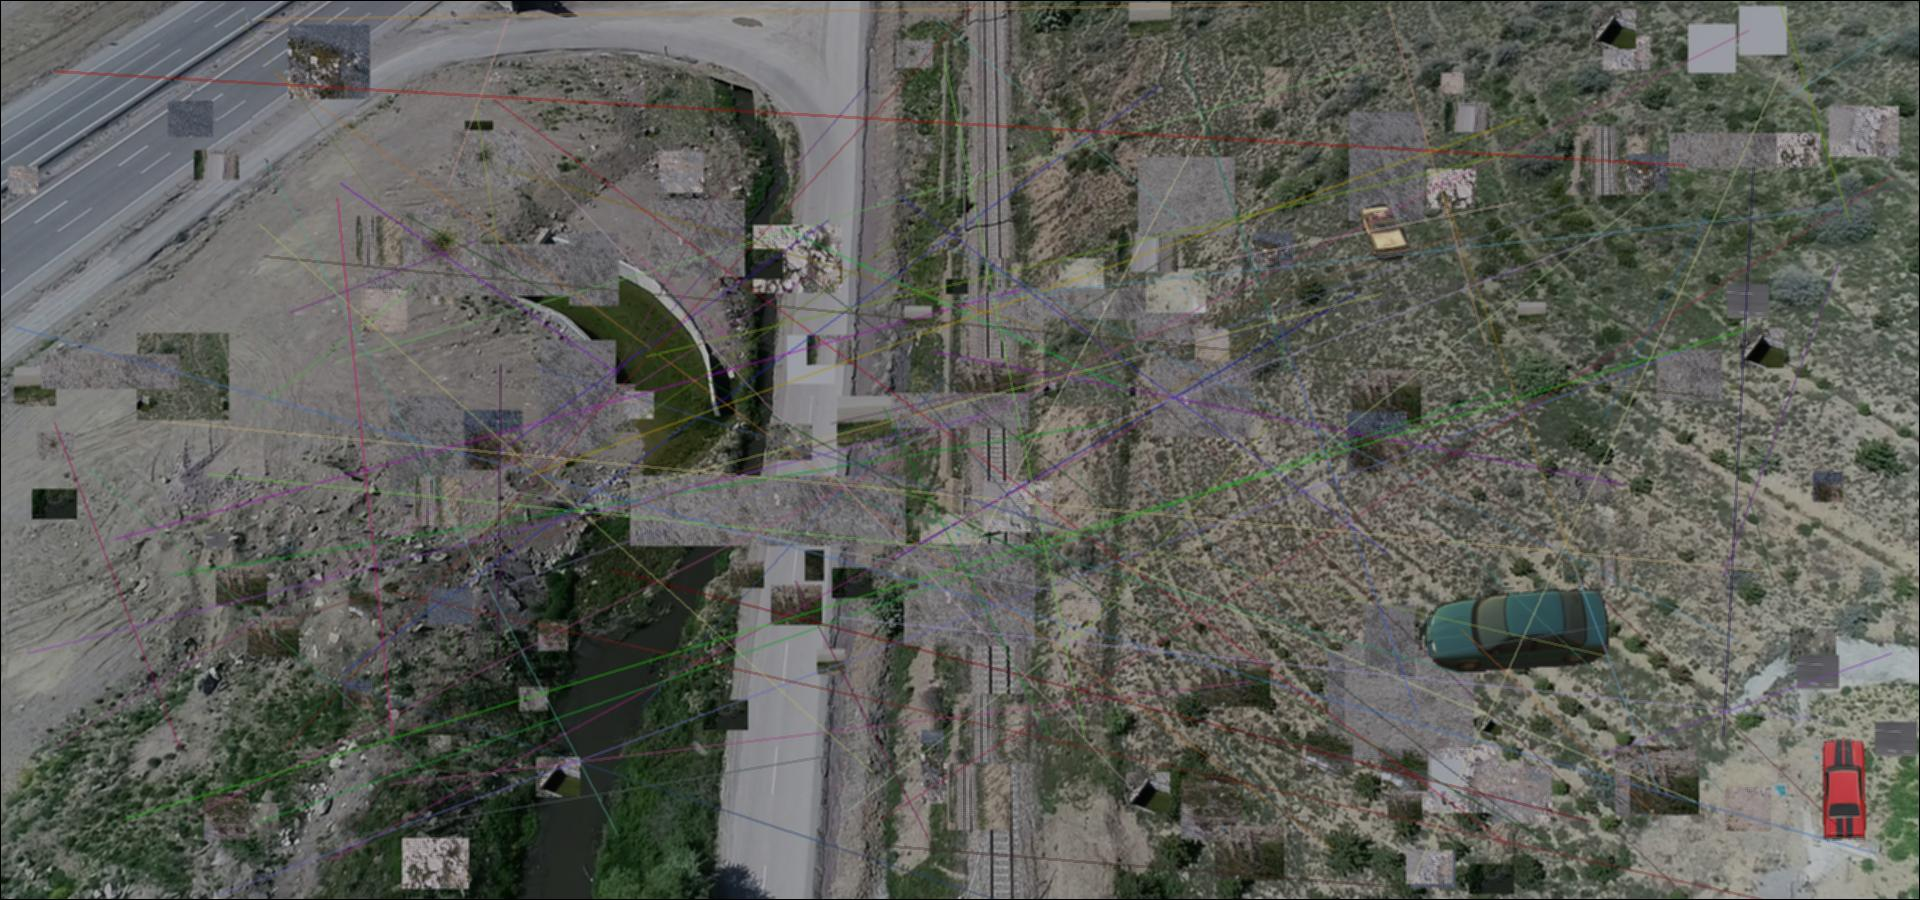arac: (1419, 585, 1609, 672), (1817, 736, 1869, 844), (1356, 203, 1411, 261)
